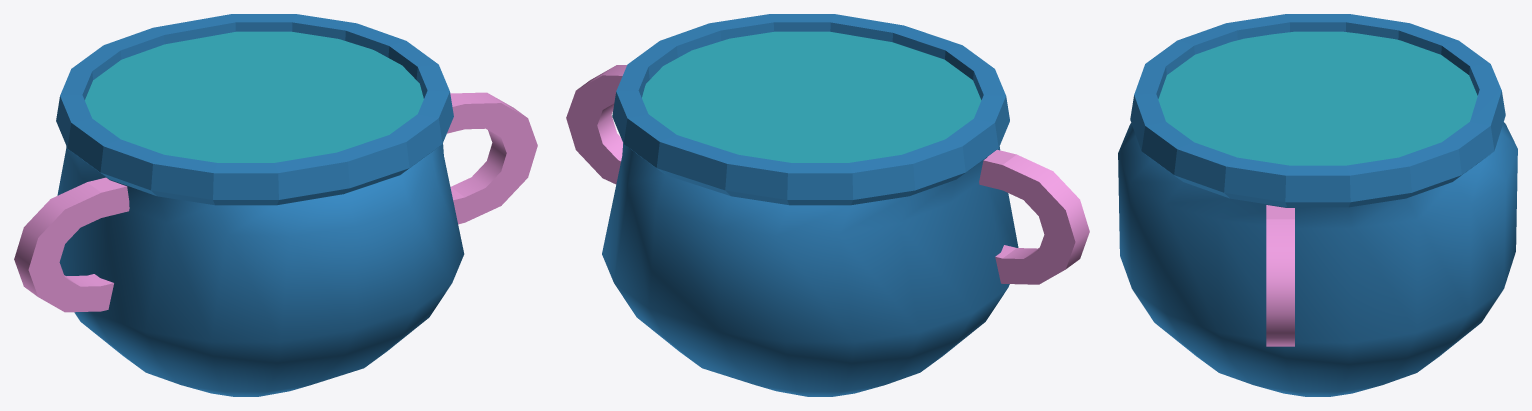
File: caldero.glb
The picture shows the model from 3 angles, left to right: view 1: azimuth 30°, elevation 25°; view 2: azimuth 150°, elevation 25°; view 3: azimuth 270°, elevation 25°; orthographic projection.
Visible parts, largest first — view 1: Sphere001, ewe, Tube001, Tube002; view 2: Sphere001, ewe, Tube001, Tube002; view 3: Sphere001, ewe, Tube002.
Boxes of the visible parts, left/top/right/bottom form: Sphere001: left=56, top=14, right=464, bottom=396; ewe: left=85, top=31, right=423, bottom=162; Tube001: left=14, top=177, right=129, bottom=312; Tube002: left=447, top=92, right=537, bottom=224; Sphere001: left=602, top=14, right=1018, bottom=396; ewe: left=642, top=31, right=981, bottom=162; Tube001: left=979, top=149, right=1089, bottom=284; Tube002: left=566, top=65, right=626, bottom=184; Sphere001: left=1118, top=14, right=1517, bottom=396; ewe: left=1158, top=31, right=1477, bottom=165; Tube002: left=1266, top=205, right=1294, bottom=346.
Bounding box in the file's own units: 1.74 × 0.8965 × 1.2.
